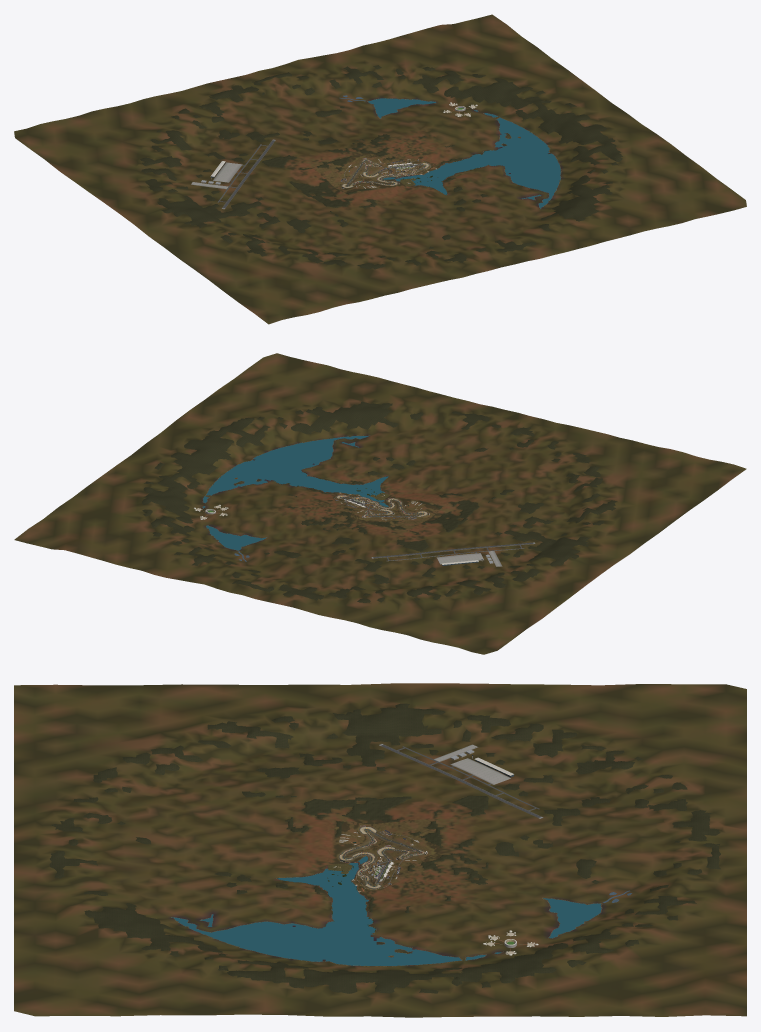
Rendered from rwanda_official.glb.
3 renders of one model, top to bottom at view 1: azimuth 30°, elevation 25°; view 2: azimuth 150°, elevation 25°; view 3: azimuth 270°, elevation 25°, orthographic. The views are drawn at different scales.
Visible parts, largest first — view 1: Terrain_Far, Env_ForestCanopy, Lake, Ground_Horizon_AirfieldPaved, Terrain; view 2: Terrain_Far, Env_ForestCanopy, Lake, Ground_Horizon_AirfieldPaved, Terrain; view 3: Terrain_Far, Env_ForestCanopy, Lake, Ground_Horizon_AirfieldPaved, Terrain, Ground_Lakeside_ShoreFar, Ground_Verge.
Part boxes in pixels (x1,y1,x2,y2): Terrain_Far: (14, 14, 746, 324); Env_ForestCanopy: (140, 65, 622, 269); Lake: (368, 98, 560, 208); Ground_Horizon_AirfieldPaved: (191, 139, 275, 209); Terrain: (344, 158, 425, 186); Terrain_Far: (14, 353, 746, 654); Env_ForestCanopy: (141, 401, 617, 602); Lake: (203, 436, 388, 550); Ground_Horizon_AirfieldPaved: (371, 542, 535, 566); Terrain: (339, 495, 422, 517); Terrain_Far: (14, 683, 746, 1017); Env_ForestCanopy: (49, 703, 720, 993); Lake: (171, 856, 601, 965); Ground_Horizon_AirfieldPaved: (379, 744, 543, 818); Terrain: (338, 830, 426, 885); Ground_Lakeside_ShoreFar: (171, 898, 602, 966); Ground_Verge: (338, 826, 424, 888).
Size of what is drawn, in the model's own units: 10500 by 213 by 9800.
83 materials, 62 textured.
